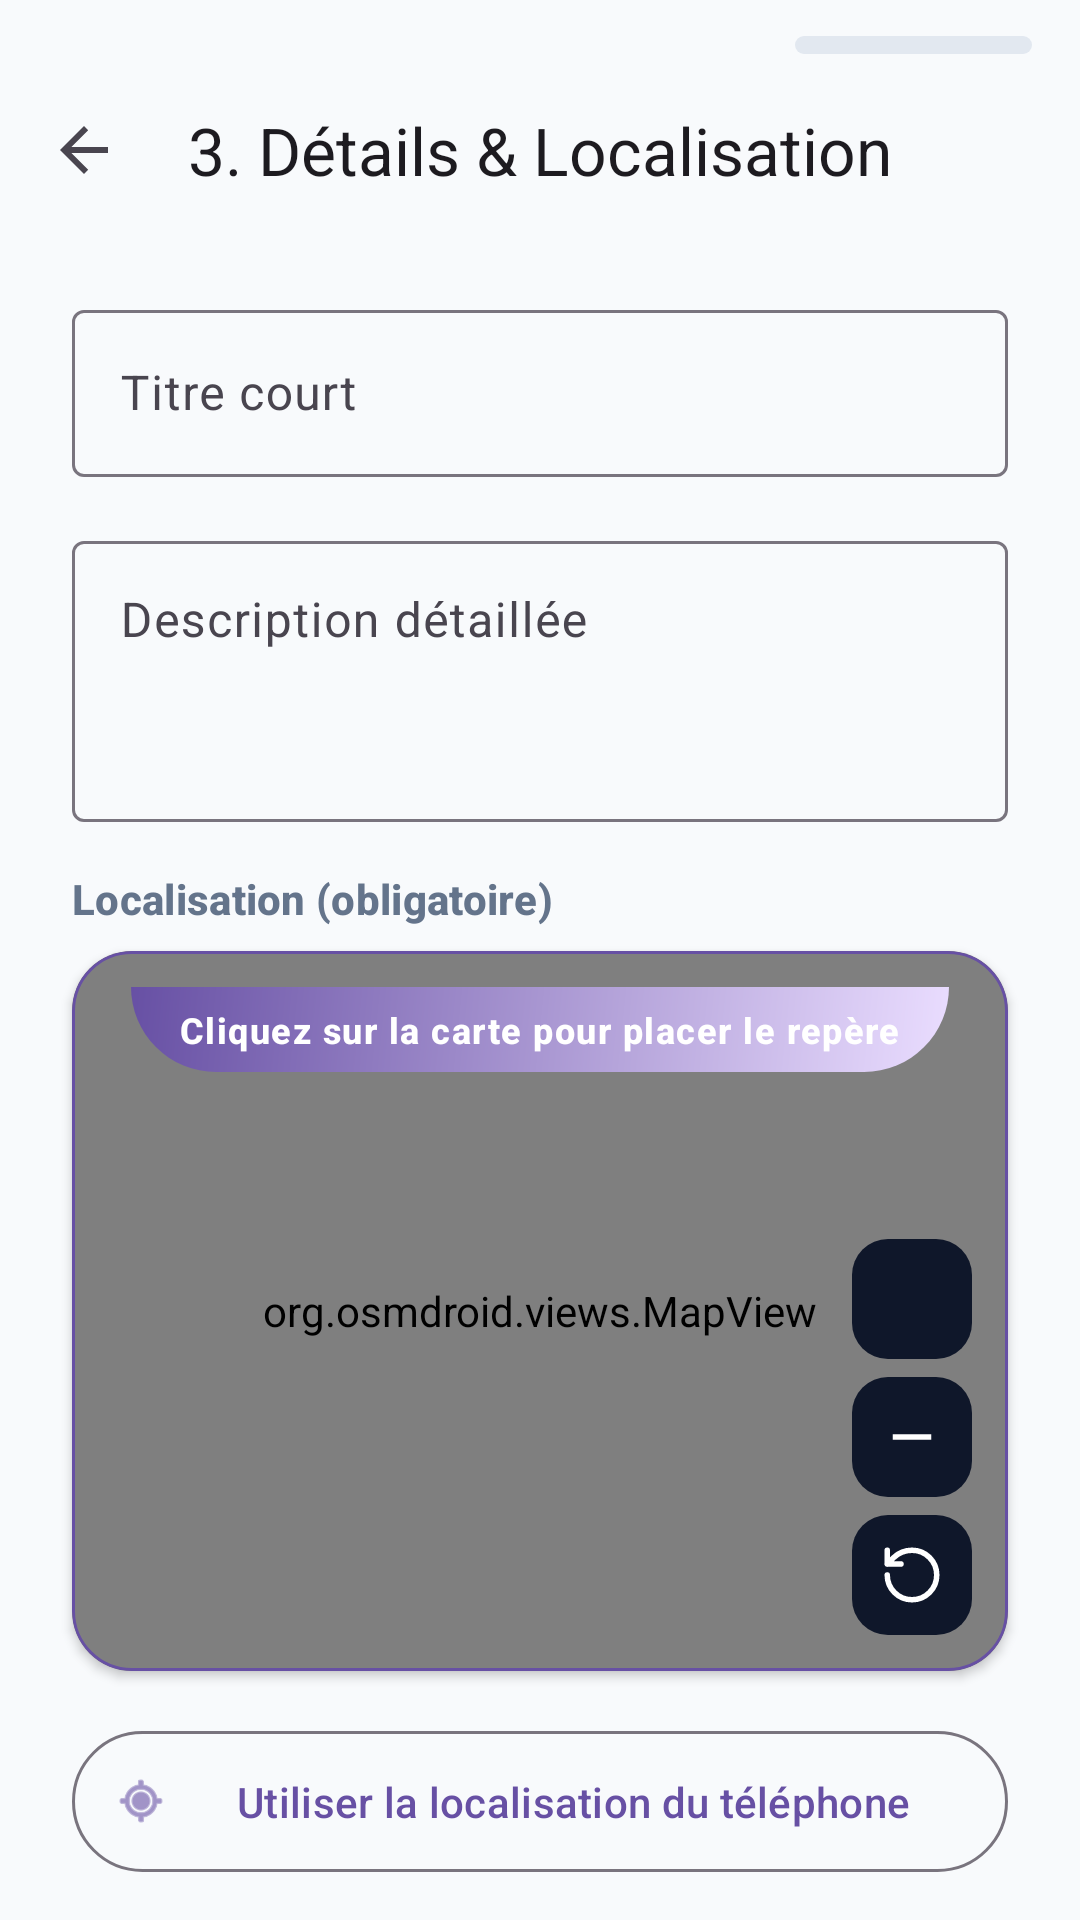

Screen size 1080×1920. Icon name, then its box in pixels as (x1, y1, x2, y2):
Tourner la carte de 45 degrés: (852, 1515, 972, 1635)
Zoom arrière: (852, 1377, 972, 1497)
